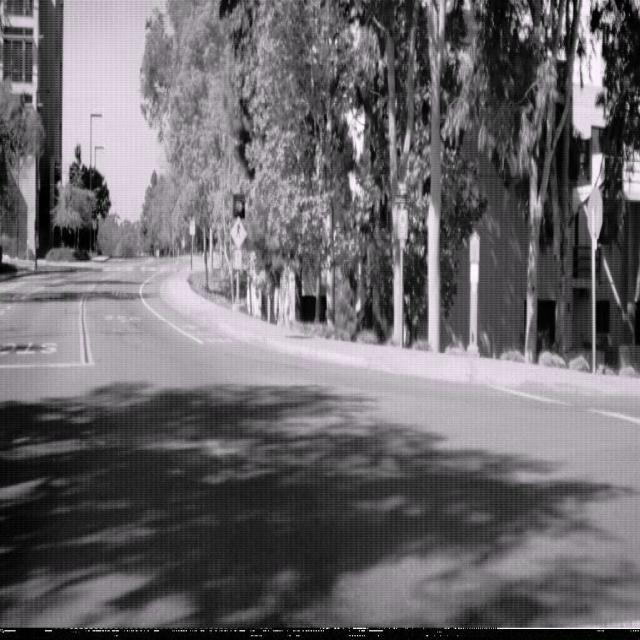pedestrianCrossing: (230, 215, 248, 250)
